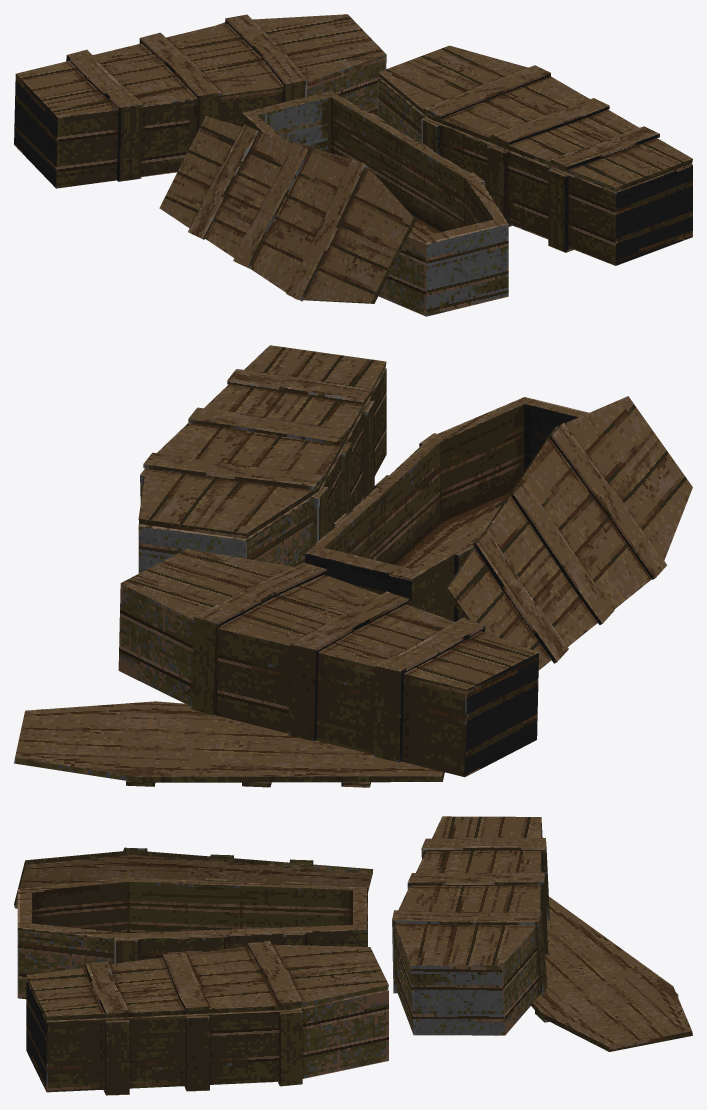
Rendered from coffin.glb.
3 renders of one model, top to bottom at view 1: azimuth 30°, elevation 25°; view 2: azimuth 150°, elevation 25°; view 3: azimuth 270°, elevation 25°, orthographic. The views are drawn at different scales.
Visible parts, largest first — view 1: Cube.005; view 2: Cube.005; view 3: Cube.005.
Part boxes in pixels (<box>): Cube.005: <box>14,14,692,316</box>; Cube.005: <box>14,345,692,787</box>; Cube.005: <box>14,816,692,1095</box>.
Size of the model in its own units: 3.57 by 0.924 by 5.03.
1 material, 1 textured.
